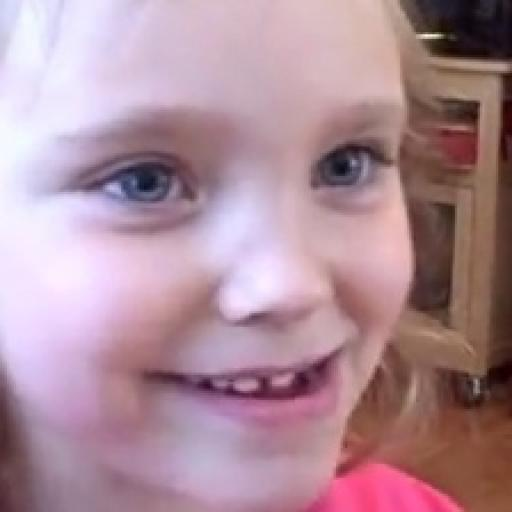Autism: (0, 0, 478, 512)
